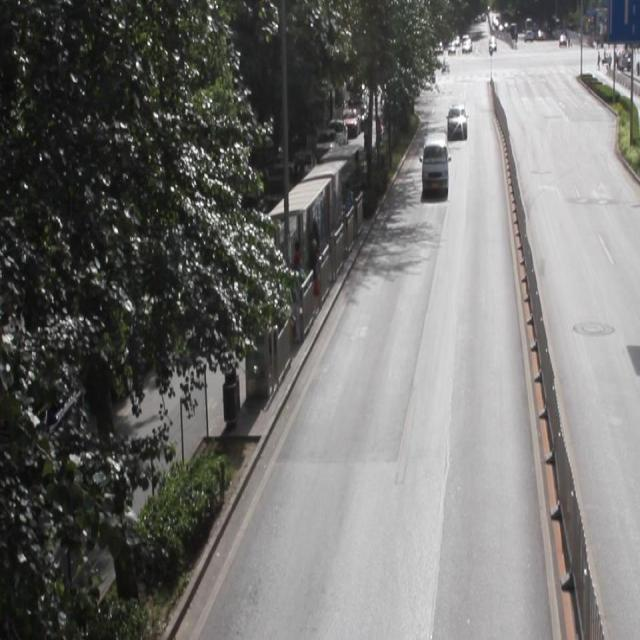car: (445, 103, 466, 139)
truck: (419, 131, 447, 191)
